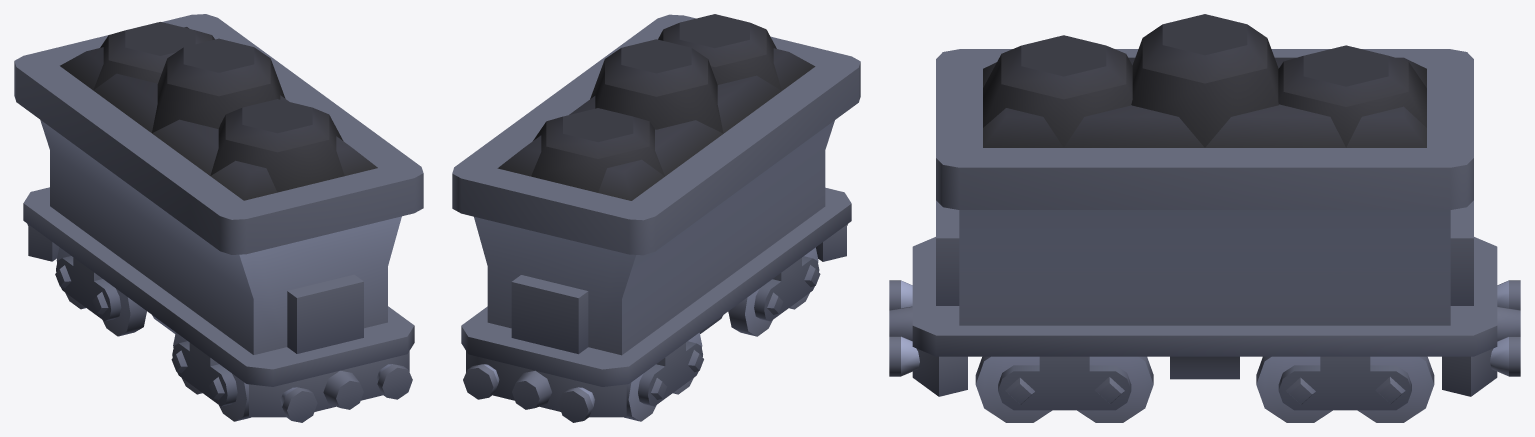
File: train-carriage-coal.glb
3 renders of one model, left to right at view 1: azimuth 30°, elevation 25°; view 2: azimuth 150°, elevation 25°; view 3: azimuth 270°, elevation 25°, orthographic. The views are drawn at different scales.
Parts seen in each view (by area): view 1: train-carriage-coal, cargo, wheels-back, wheels-front; view 2: train-carriage-coal, cargo, wheels-front, wheels-back; view 3: train-carriage-coal, cargo, wheels-front, wheels-back.
Part boxes in pixels (bbox=[...]): train-carriage-coal: bbox=[14, 14, 423, 422]; cargo: bbox=[60, 22, 377, 200]; wheels-back: bbox=[55, 247, 146, 336]; wheels-front: bbox=[171, 332, 250, 421]; train-carriage-coal: bbox=[452, 14, 860, 422]; cargo: bbox=[497, 14, 815, 200]; wheels-front: bbox=[728, 247, 820, 336]; wheels-back: bbox=[624, 332, 703, 421]; train-carriage-coal: bbox=[889, 49, 1520, 396]; cargo: bbox=[983, 14, 1426, 147]; wheels-front: bbox=[975, 356, 1153, 422]; wheels-back: bbox=[1256, 356, 1434, 422].
Bounding box in the file's own units: 1.2 × 1.65 × 2.7.
